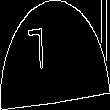L_S: (46, 28, 64, 82)
